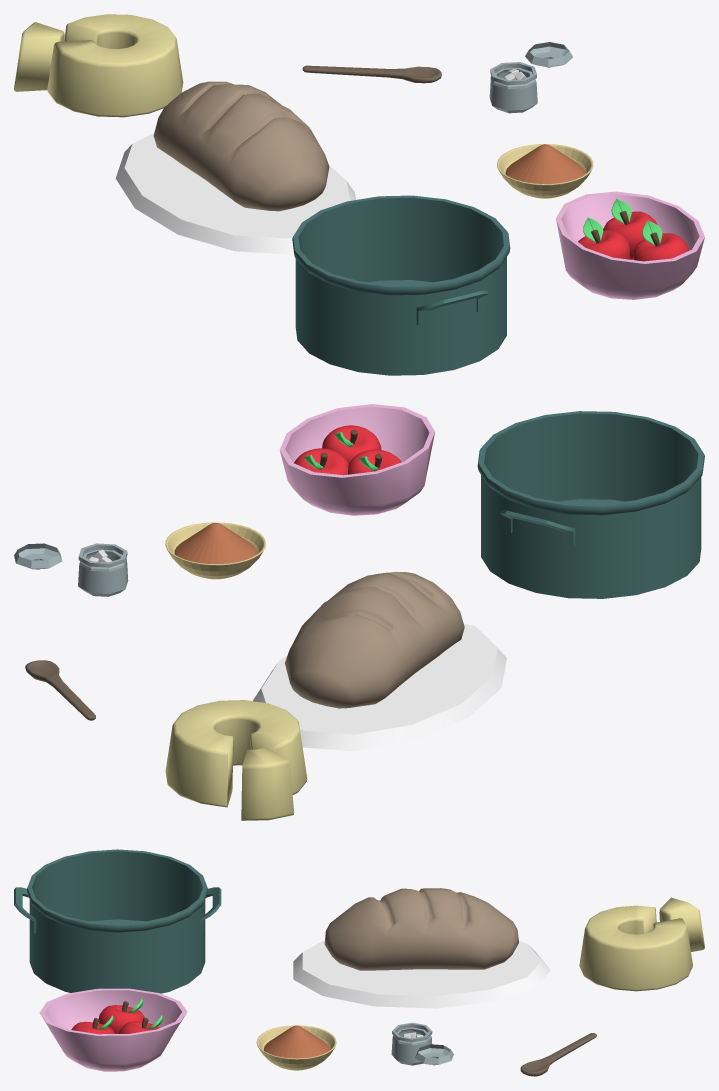
Rendered from Kitchen_stuff.fbx.
3 renders of one model, top to bottom at view 1: azimuth 30°, elevation 25°; view 2: azimuth 150°, elevation 25°; view 3: azimuth 270°, elevation 25°, orthographic. The views are drawn at different scales.
Parts seen in each view (by area): view 1: Cylinder001, BREAD, CAKE, plates_on_table, Bowl_w_Apples, Cinnamon, polySurface1, Wood_Spoon, Apple3, Apple1, Apple, Cover; view 2: Cylinder001, BREAD, plates_on_table, CAKE, Bowl_w_Apples, Cinnamon, polySurface1, Apple3, Wood_Spoon, Apple1, Cover, Apple; view 3: Cylinder001, BREAD, plates_on_table, CAKE, Bowl_w_Apples, Cinnamon, polySurface1, Apple, Wood_Spoon, Cover, Apple3, Apple1.
Boxes of the visible parts, box(x1,y1,x2,y2) form: Cylinder001: box(292, 195, 510, 375); BREAD: box(153, 81, 329, 211); CAKE: box(14, 14, 183, 117); plates_on_table: box(115, 133, 356, 254); Bowl_w_Apples: box(556, 191, 704, 299); Cinnamon: box(497, 144, 593, 198); polySurface1: box(489, 62, 537, 113); Wood_Spoon: box(302, 65, 441, 83); Apple3: box(633, 220, 688, 261); Apple1: box(603, 198, 657, 259); Apple: box(578, 217, 630, 259); Cover: box(525, 42, 572, 67); Cylinder001: box(477, 411, 704, 598); BREAD: box(285, 571, 464, 708); plates_on_table: box(253, 623, 506, 751); CAKE: box(165, 700, 307, 820); Bowl_w_Apples: box(279, 404, 434, 515); Cinnamon: box(165, 522, 265, 579); polySurface1: box(78, 543, 128, 596); Apple3: box(322, 425, 381, 463); Wood_Spoon: box(25, 660, 95, 720); Apple1: box(294, 448, 348, 475); Cover: box(14, 543, 62, 569); Apple: box(348, 449, 401, 474); Cylinder001: box(14, 849, 221, 993); BREAD: box(324, 888, 518, 970); plates_on_table: box(293, 940, 550, 1008); CAKE: box(579, 897, 704, 991); Bowl_w_Apples: box(39, 988, 187, 1071); Cinnamon: box(256, 1025, 336, 1070); polySurface1: box(391, 1022, 432, 1065); Apple: box(98, 998, 144, 1033); Wood_Spoon: box(520, 1033, 596, 1076); Cover: box(415, 1044, 453, 1065); Apple3: box(71, 1015, 114, 1034); Apple1: box(119, 1015, 162, 1033).
Size of the model in its own units: 446 by 93.63 by 709.
